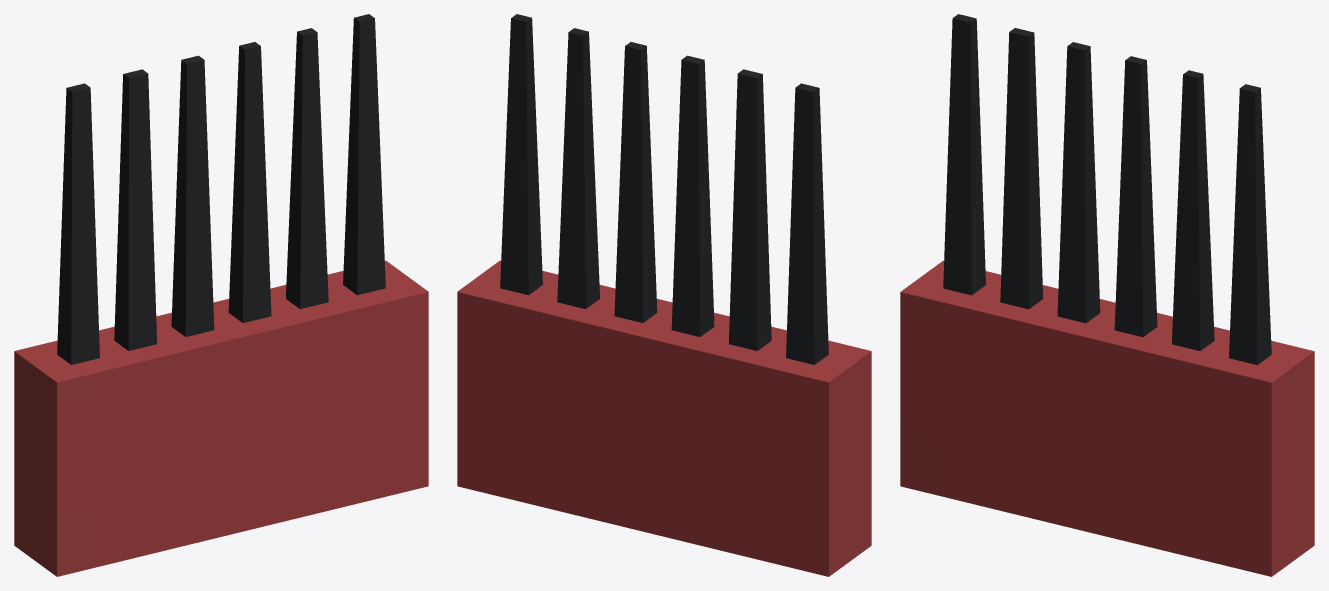
Rendered from fence.glb.
3 renders of one model, left to right at view 1: azimuth 30°, elevation 25°; view 2: azimuth 150°, elevation 25°; view 3: azimuth 330°, elevation 25°, orthographic.
Parts seen in each view (by area): view 1: Cube; view 2: Cube; view 3: Cube.
Boxes of the visible parts, bbox=[...] form: Cube: bbox=[14, 14, 428, 576]; Cube: bbox=[457, 14, 871, 576]; Cube: bbox=[900, 14, 1314, 576].
Bounding box in the file's own units: 2 × 2.38 × 0.4.
1 material, 1 textured.
